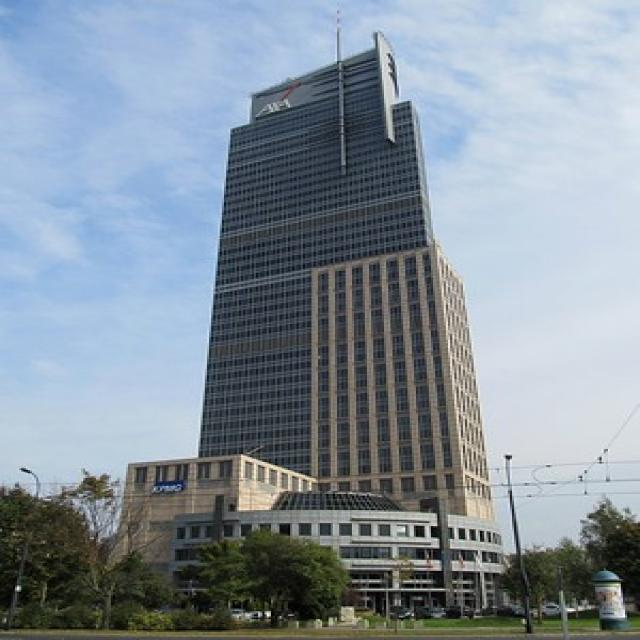Normal_building: (189, 25, 511, 620)
